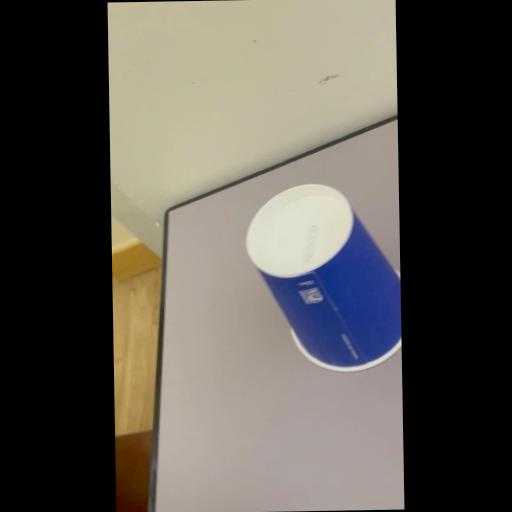lp_paper_cup: (244, 181, 402, 375)
